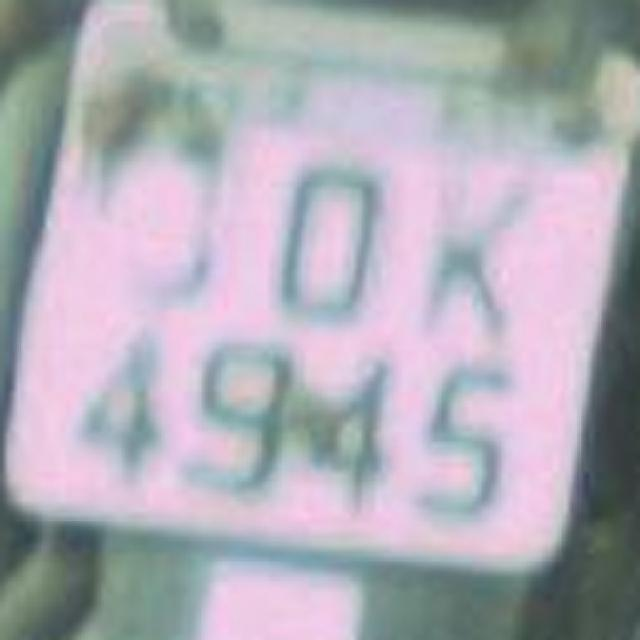4: (56, 316, 204, 512), (291, 312, 424, 520)
5: (408, 340, 544, 512)
9: (185, 316, 320, 512)
O: (249, 132, 396, 328)
